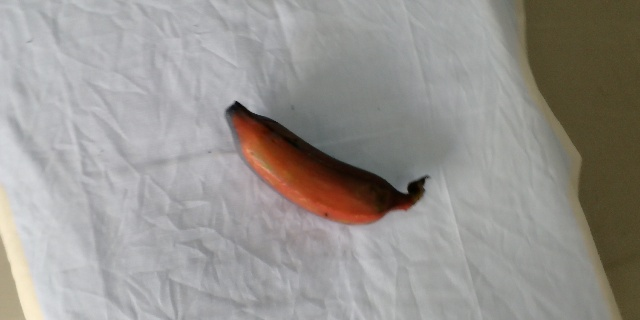banana_red: (225, 99, 437, 229)
